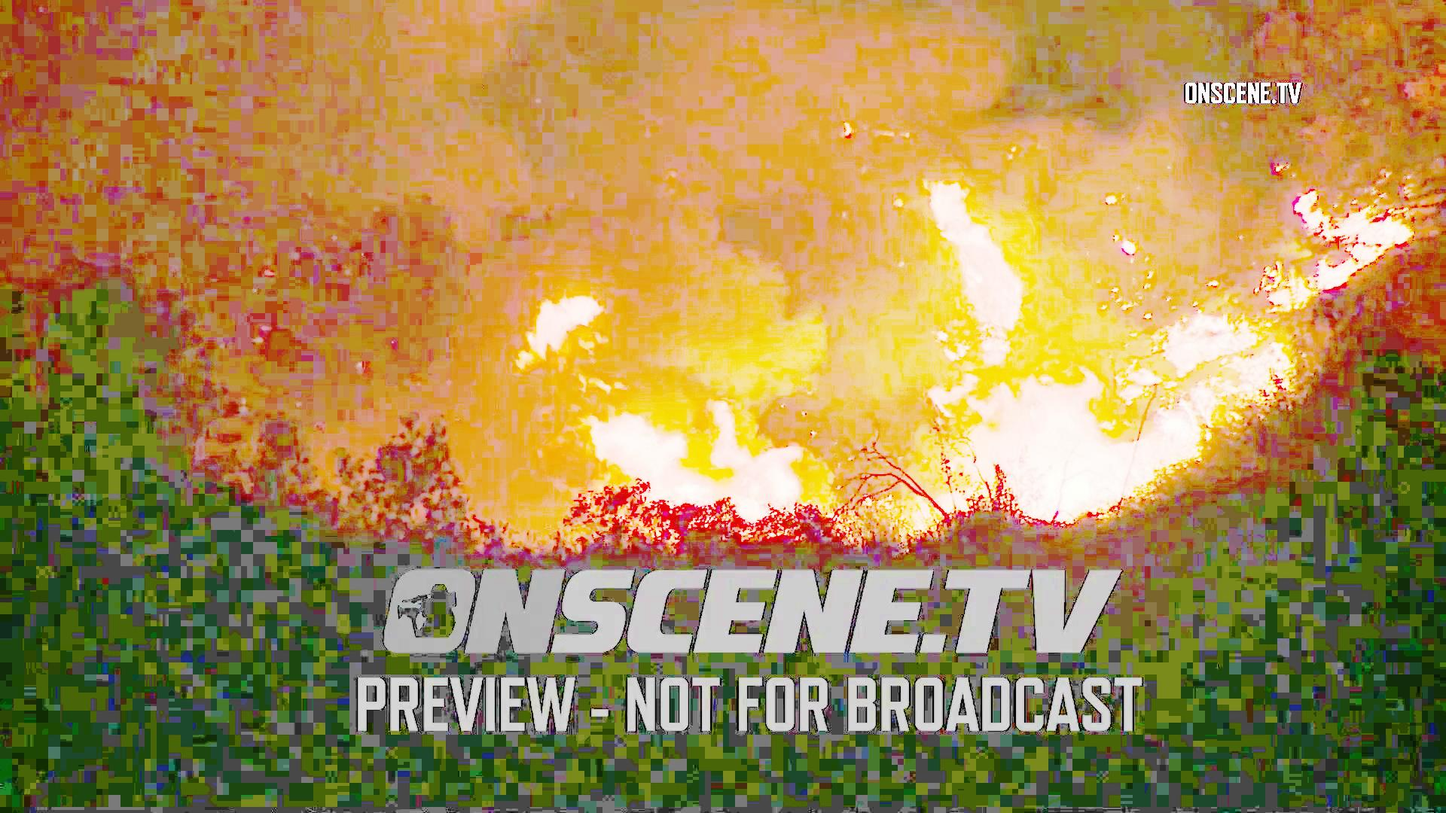fire: (891, 170, 1129, 508), (511, 290, 799, 508), (1145, 290, 1288, 431)
